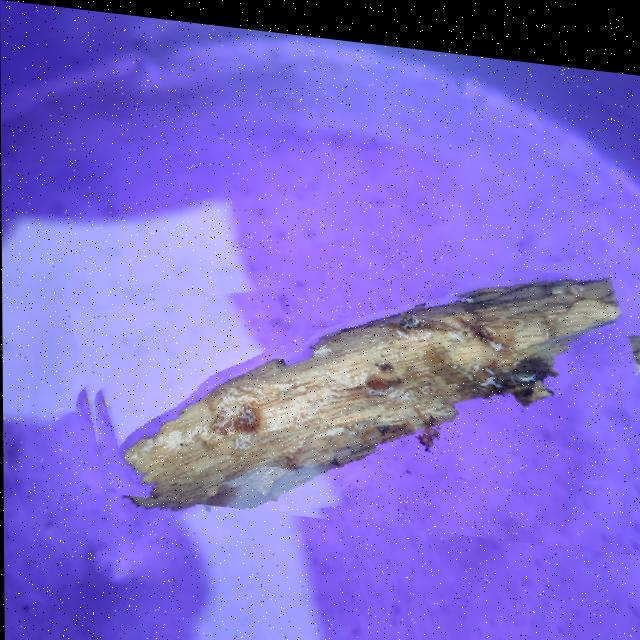litter: (75, 219, 640, 541)
